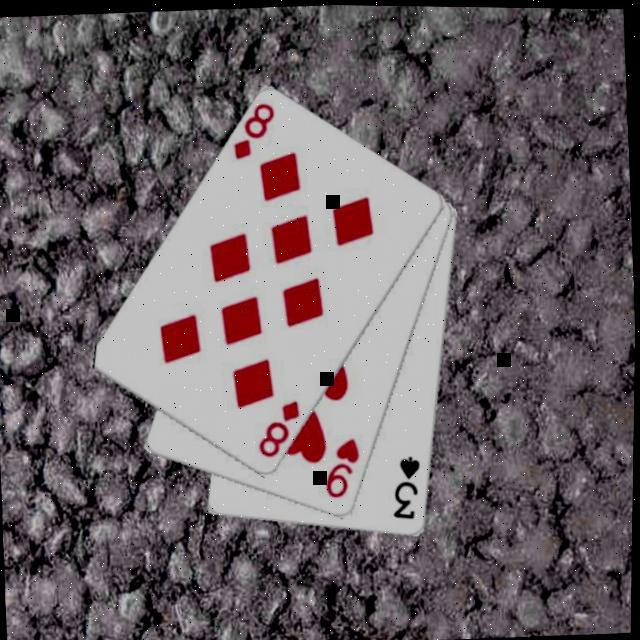3S: (388, 453, 427, 524)
8D: (253, 398, 306, 463), (227, 99, 280, 164)
9H: (320, 434, 366, 503)
